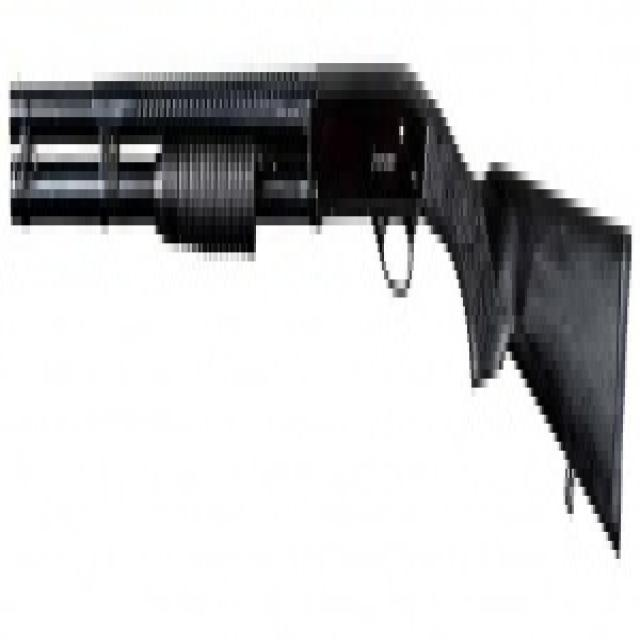rifle: (3, 48, 636, 585)
